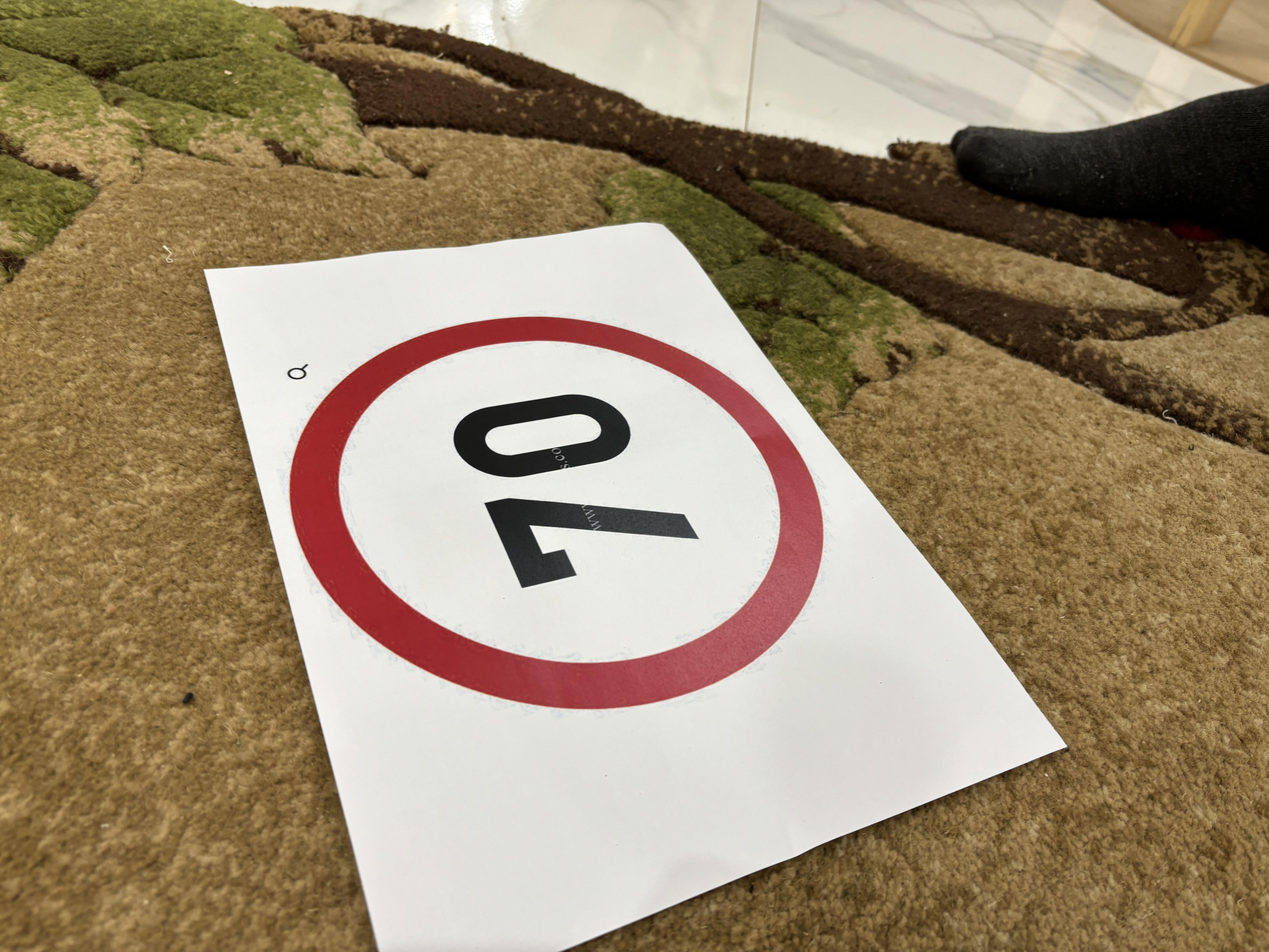70-Speed: (290, 312, 825, 715)
